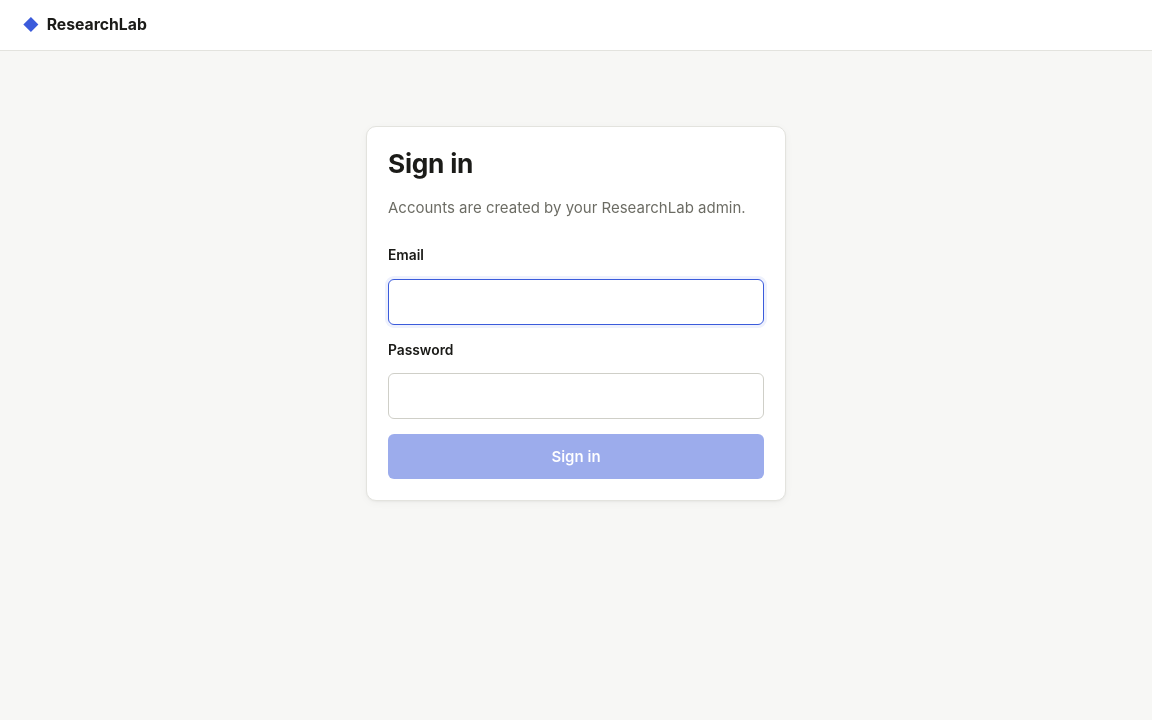
Test: sign-in › shows sign-in errors
Type "tester@example.com" into the field labelled "Email".
click(576, 302); type("tester@example.com")  # box [388,279,764,325]
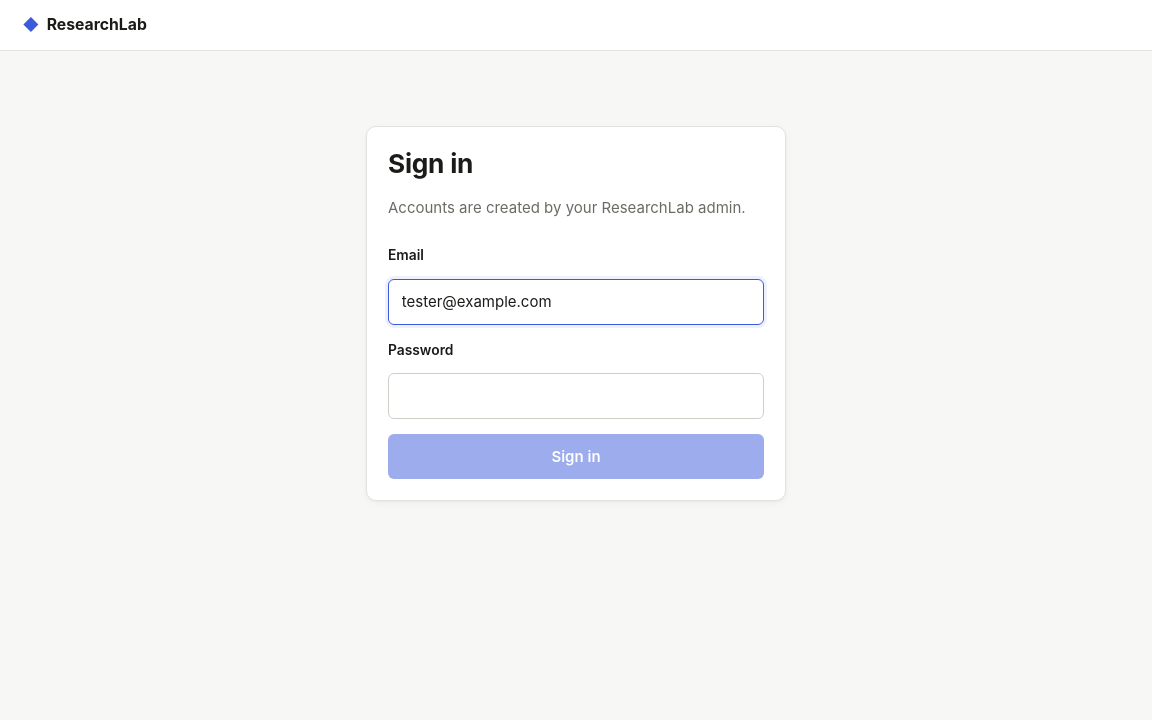
Type "wrong" into the password field labelled "Password".
click(576, 396); type("wrong")  # box [388,373,764,420]
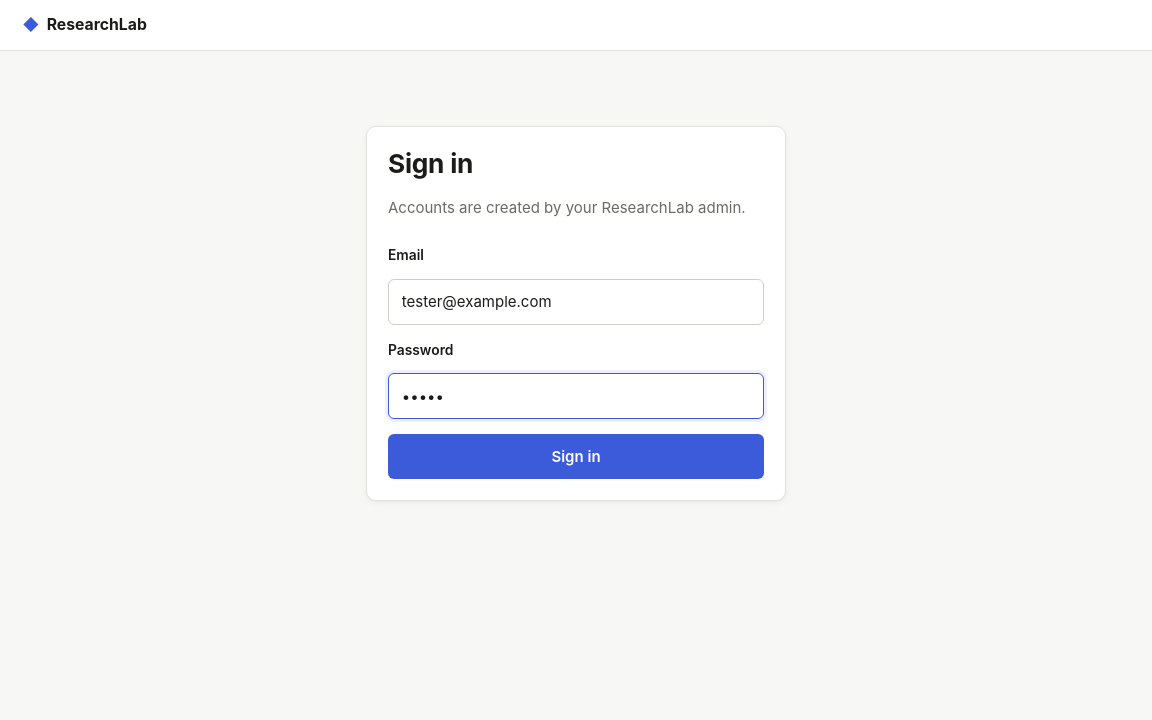
Click the button "Sign in".
click(576, 457)  # box [388,434,764,479]
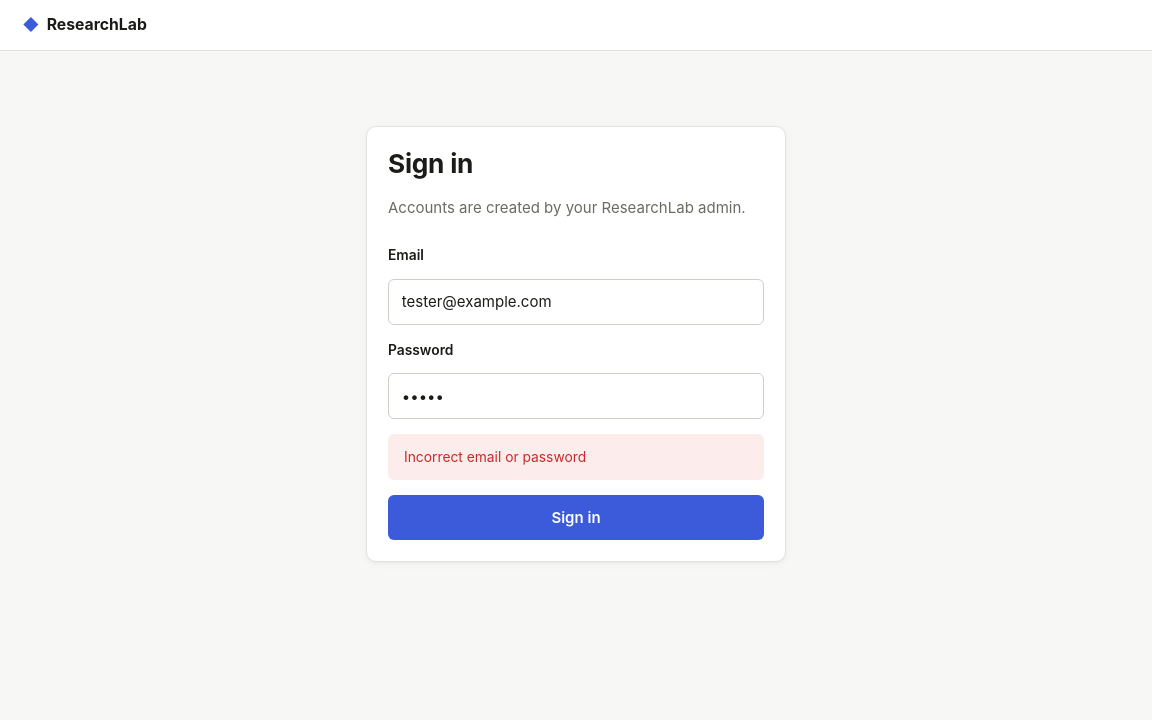
Expected: the message reads "Incorrect email or password", [404,449,586,465]
